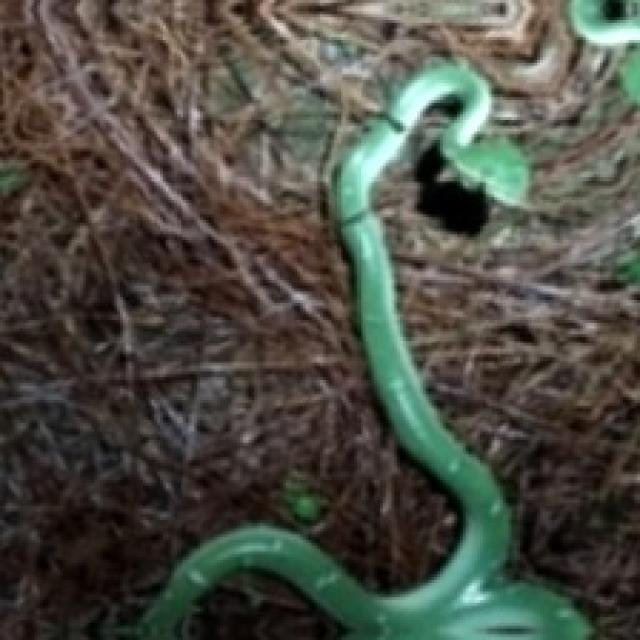north ph temple pitviper: (134, 63, 589, 637)
